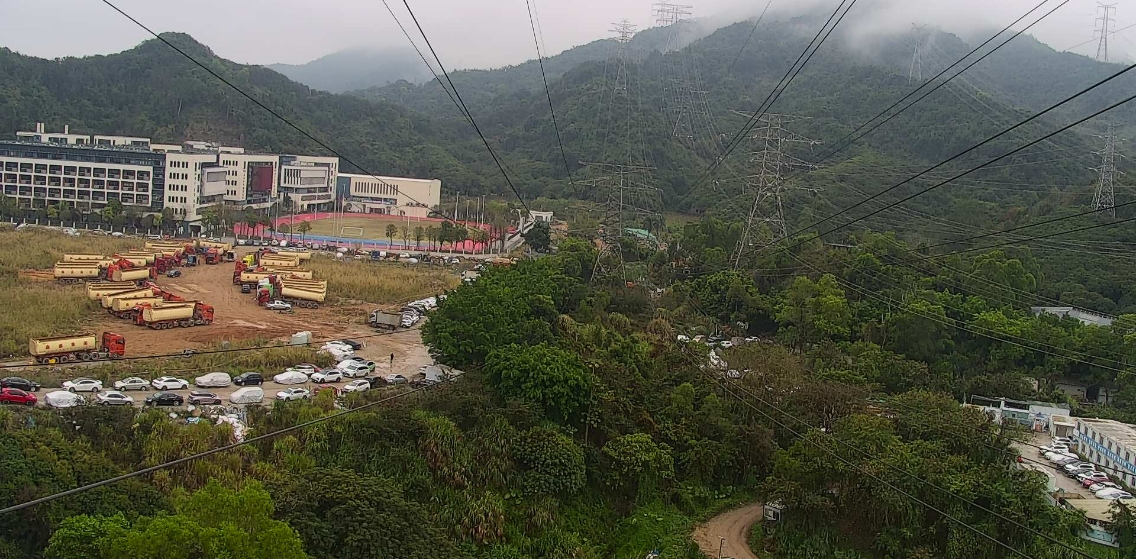山间云雾: (244, 0, 1136, 97)
